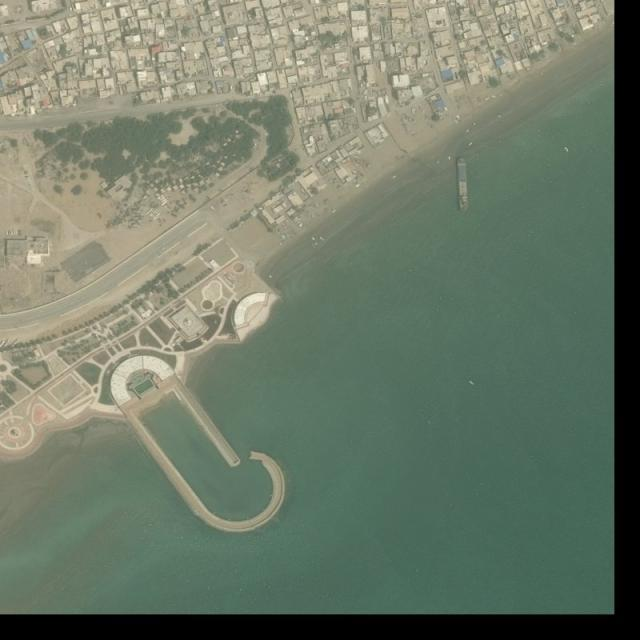ship: (456, 158, 470, 213), (468, 380, 475, 386), (564, 146, 570, 153)
